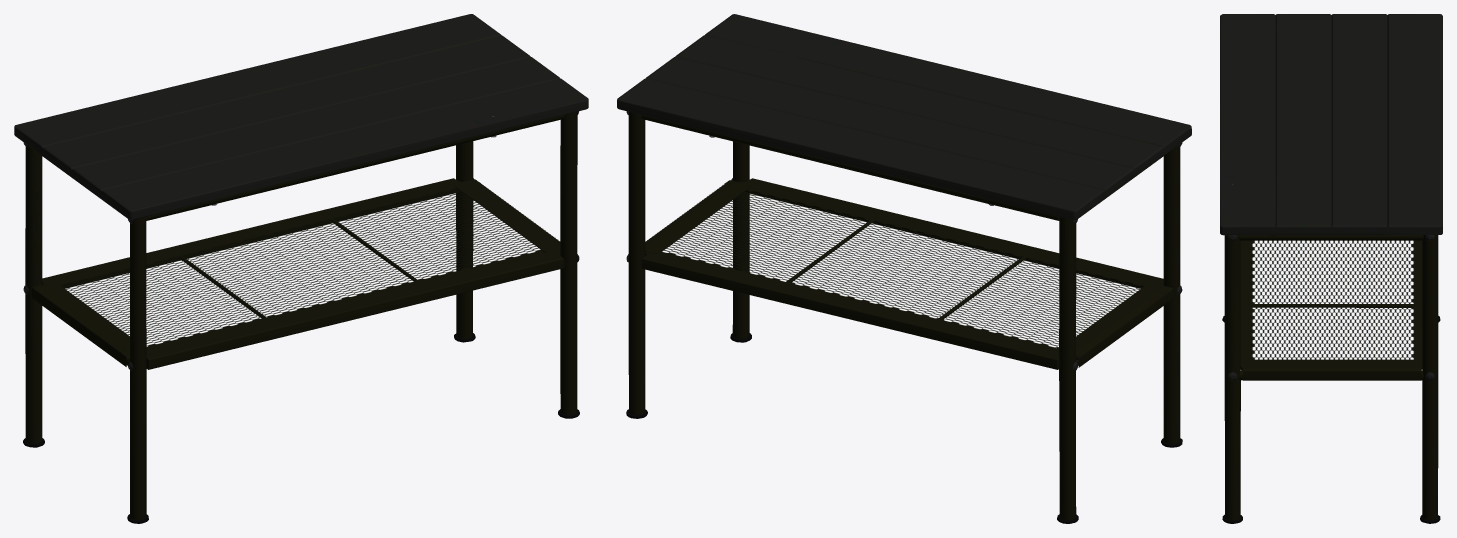
3 views of the same model, side by side, from view 1: azimuth 30°, elevation 25°; view 2: azimuth 150°, elevation 25°; view 3: azimuth 270°, elevation 25° (orthographic). The views are drawn at different scales.
Parts seen in each view (by area): view 1: ASY_ART_20586142_S01_NV01; view 2: ASY_ART_20586142_S01_NV01; view 3: ASY_ART_20586142_S01_NV01.
Part boxes in pixels (x1,y1,x2,y2): ASY_ART_20586142_S01_NV01: (14, 14, 588, 523); ASY_ART_20586142_S01_NV01: (617, 14, 1191, 523); ASY_ART_20586142_S01_NV01: (1220, 14, 1442, 523).
Bounding box in the file's own units: 0.79 × 0.5199 × 0.35.
2 materials, 2 textured.
